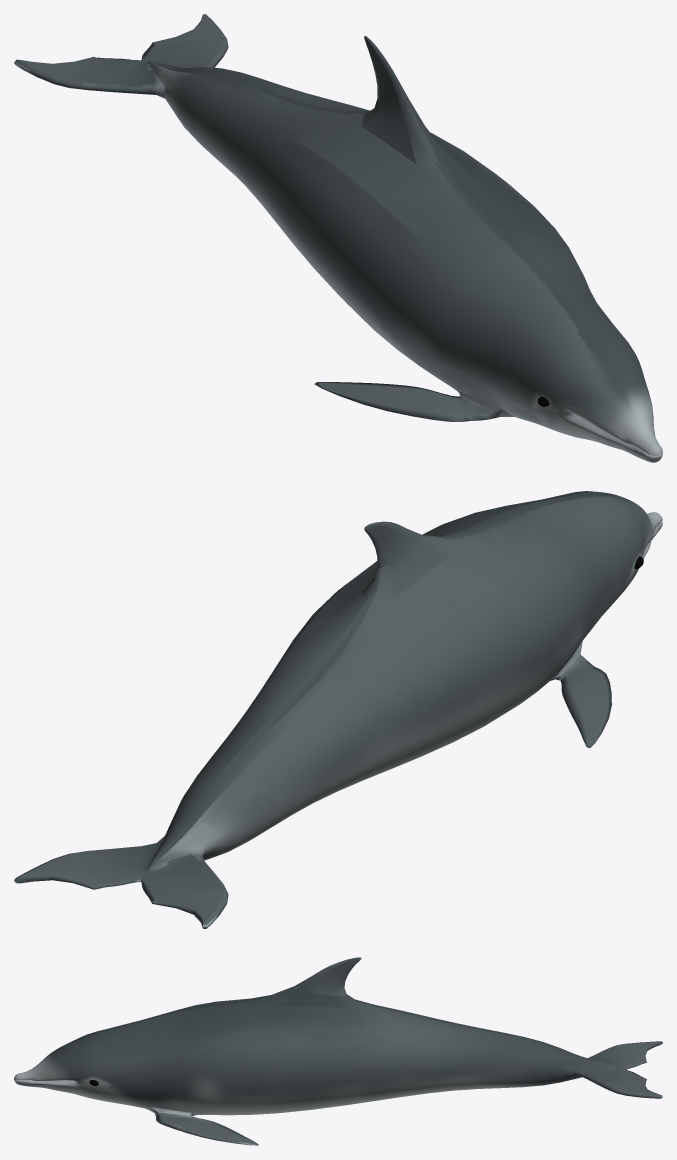
File: bottlenose dolphin.glb
The picture shows the model from 3 angles, top to bottom: view 1: azimuth 30°, elevation 25°; view 2: azimuth 150°, elevation 25°; view 3: azimuth 270°, elevation 25°; orthographic projection. The views are drawn at different scales.
Visible parts, largest first — view 1: Circle; view 2: Circle; view 3: Circle.
Boxes of the visible parts, box(x1,y1,x2,y2) form: Circle: box(14, 14, 662, 462); Circle: box(14, 491, 662, 928); Circle: box(14, 957, 662, 1145).
Bounding box in the file's own units: 1.28 × 1.15 × 4.42.
2 materials, 1 textured.
